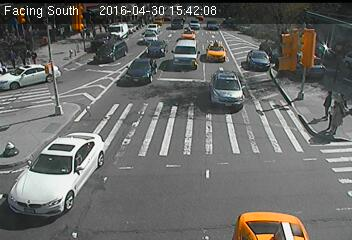neg: (191, 181, 210, 207), (143, 68, 162, 93), (61, 40, 78, 63), (243, 12, 260, 34), (100, 103, 116, 124), (285, 30, 300, 51), (274, 140, 289, 160), (74, 66, 89, 85), (163, 118, 177, 137), (223, 121, 237, 140), (87, 154, 101, 173), (213, 42, 227, 61), (48, 110, 59, 126), (190, 22, 201, 37), (256, 51, 267, 66), (128, 50, 136, 61), (343, 31, 351, 42), (250, 206, 257, 216), (149, 34, 156, 43)
pos: (325, 100, 351, 136), (315, 84, 339, 116), (3, 49, 18, 68), (27, 48, 40, 64), (17, 46, 29, 63), (24, 48, 36, 63), (83, 26, 92, 37)
